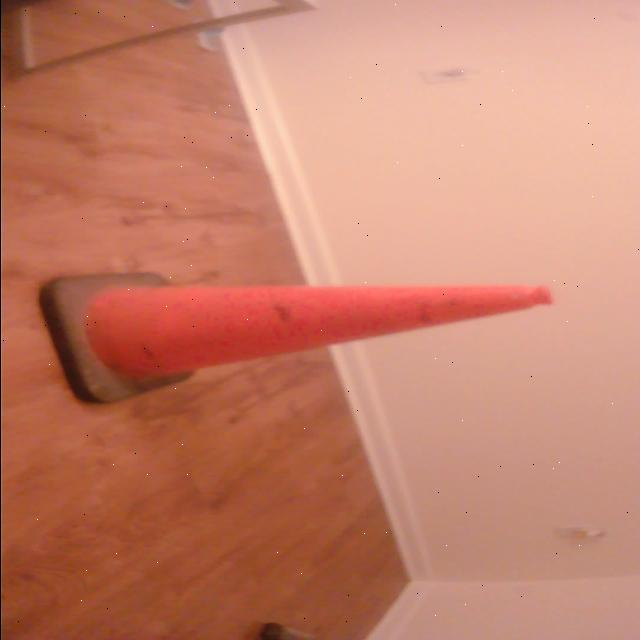traffic cone: (23, 269, 564, 411)
